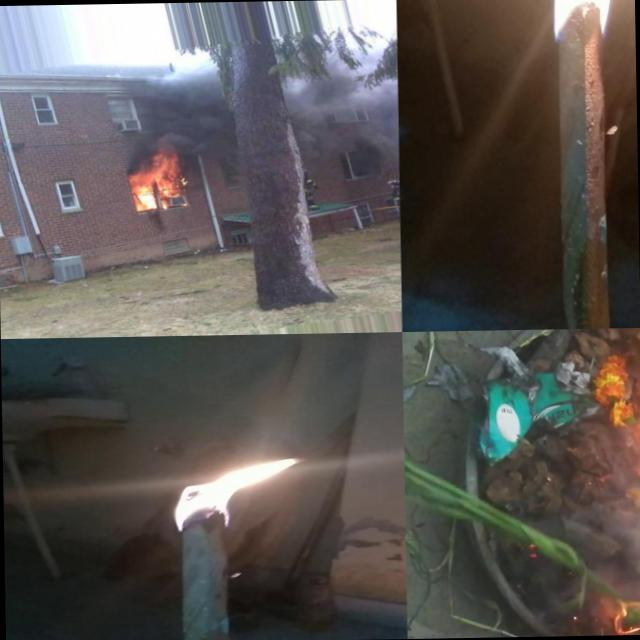fire: (162, 442, 331, 536), (537, 0, 635, 43), (128, 152, 182, 212)
smoke: (294, 72, 398, 160), (130, 74, 229, 154)
